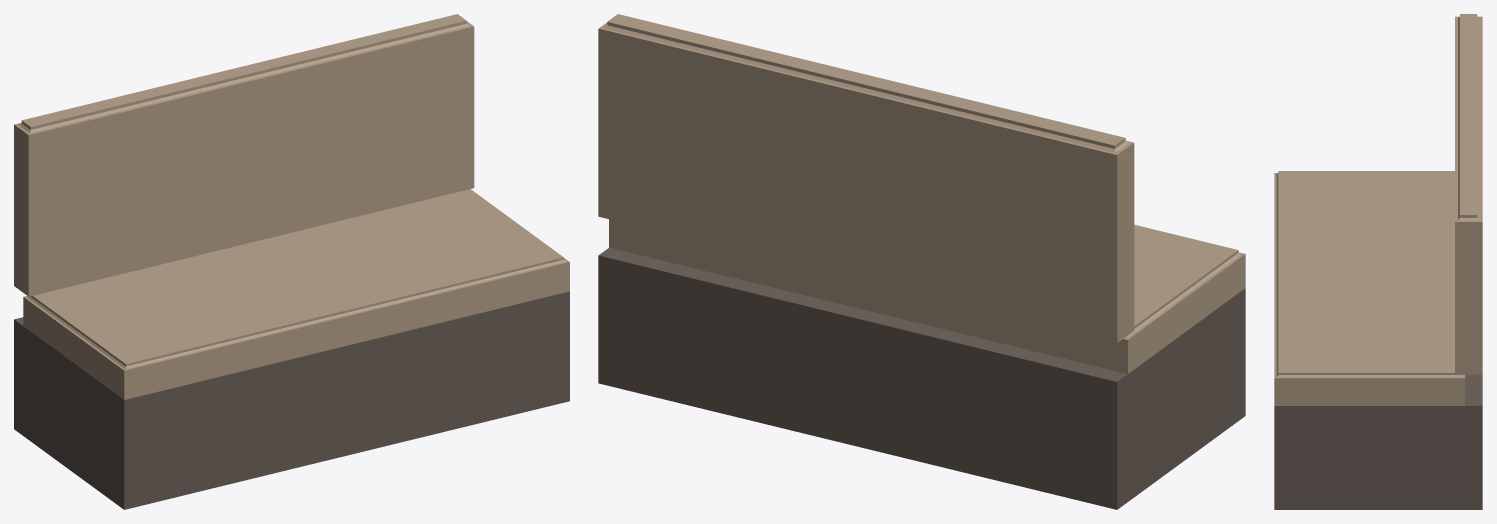
File: booth_sofa.glb
3 renders of one model, left to right at view 1: azimuth 30°, elevation 25°; view 2: azimuth 150°, elevation 25°; view 3: azimuth 270°, elevation 25°, orthographic. The views are drawn at different scales.
Visible parts, largest first — view 1: Backrest, Plinth, SeatCushion; view 2: Backrest, Plinth, SeatCushion; view 3: SeatCushion, Plinth, Backrest.
Boxes of the visible parts, x1=… form: Backrest: x1=14, y1=14, x2=474, y2=296; Plinth: x1=14, y1=291, x2=569, y2=509; SeatCushion: x1=23, y1=189, x2=569, y2=399; Backrest: x1=598, y1=14, x2=1134, y2=342; Plinth: x1=598, y1=247, x2=1245, y2=509; SeatCushion: x1=609, y1=219, x2=1245, y2=373; SeatCushion: x1=1274, y1=171, x2=1465, y2=405; Plinth: x1=1274, y1=374, x2=1482, y2=509; Backrest: x1=1455, y1=14, x2=1482, y2=374.
Size of the model in its own units: 1.4 by 0.93 by 0.6.
